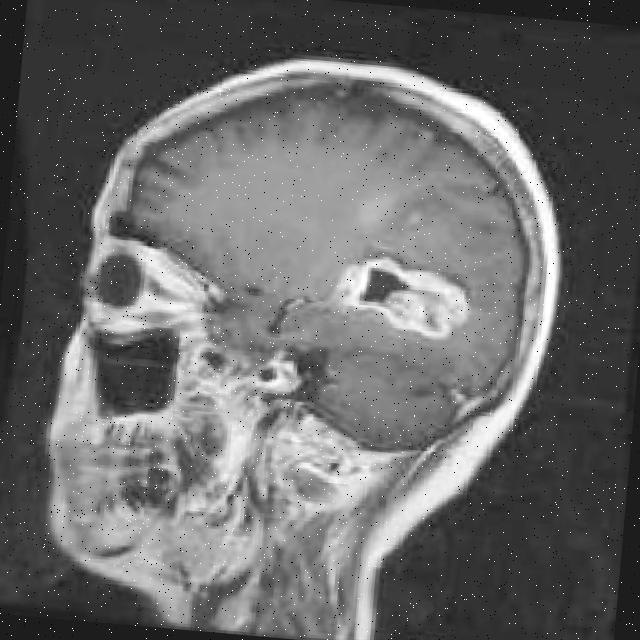MCI: (306, 253, 476, 356)
